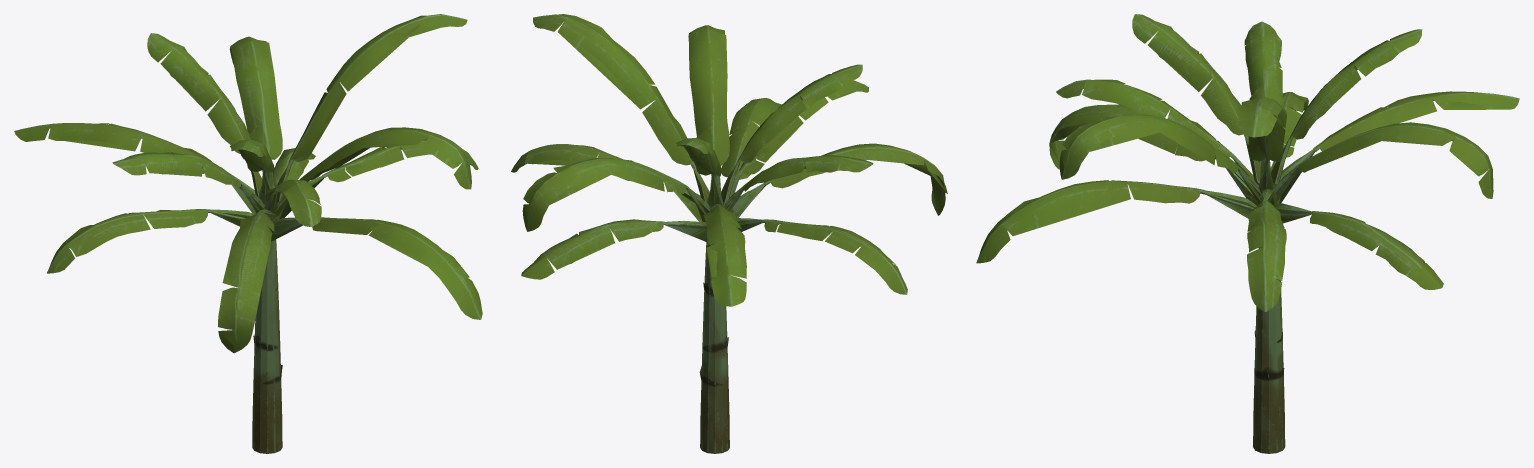
The model's file is platano.glb.
3 views of the same model, side by side, from view 1: azimuth 30°, elevation 25°; view 2: azimuth 150°, elevation 25°; view 3: azimuth 270°, elevation 25° (orthographic). The views are drawn at different scales.
Visible parts, largest first — view 1: cerca, lejos; view 2: cerca, lejos; view 3: cerca, lejos.
Part boxes in pixels (x1,y1,x2,y2): cerca: (14,14,482,453); lejos: (45,24,471,451); cerca: (511,14,947,453); lejos: (522,19,947,453); cerca: (976,14,1519,453); lejos: (1002,30,1507,453).
Bounding box in the file's own units: 4.95 × 4.5 × 5.26.
Materials: 1 (1 with a texture image).
